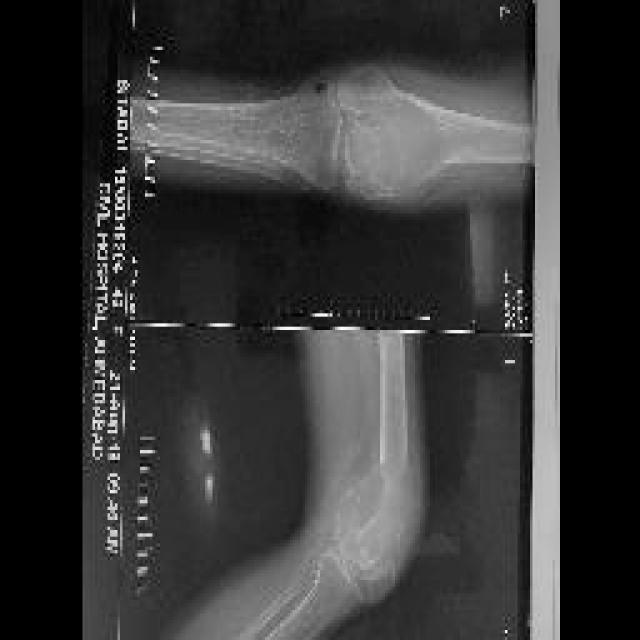bone-cancer: (355, 104, 451, 189), (338, 463, 415, 526)
